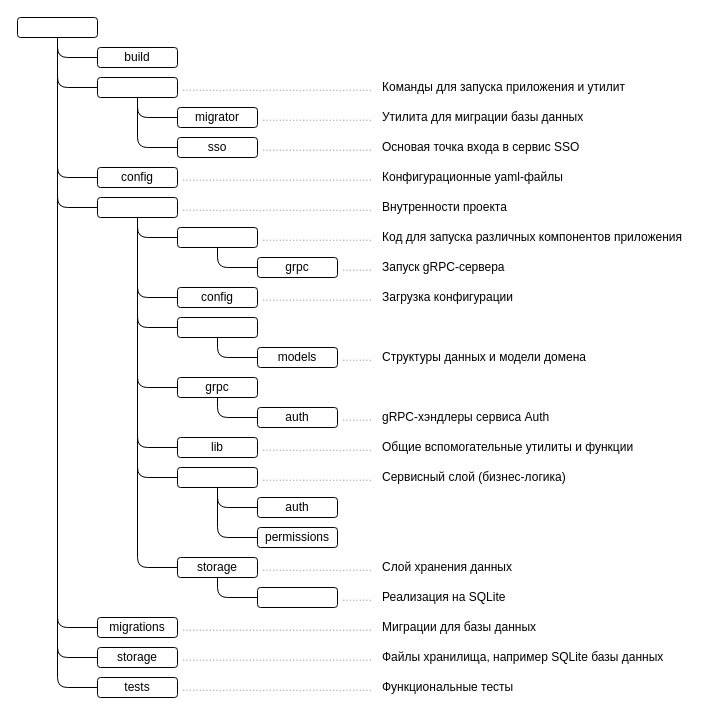
Some shapes in this 715 by 715 pixel diagram are drawn without their labels. The shapes that lost their labels are listed below. From the top down, each one's box as (x1, y1, x2, y2) in pixels, then its label:
(16, 16, 98, 38): v-sso
(96, 76, 178, 98): cmd
(96, 196, 178, 218): internal
(176, 226, 258, 248): app
(176, 316, 258, 338): domain
(176, 466, 258, 488): services
(256, 586, 338, 608): sqlite
